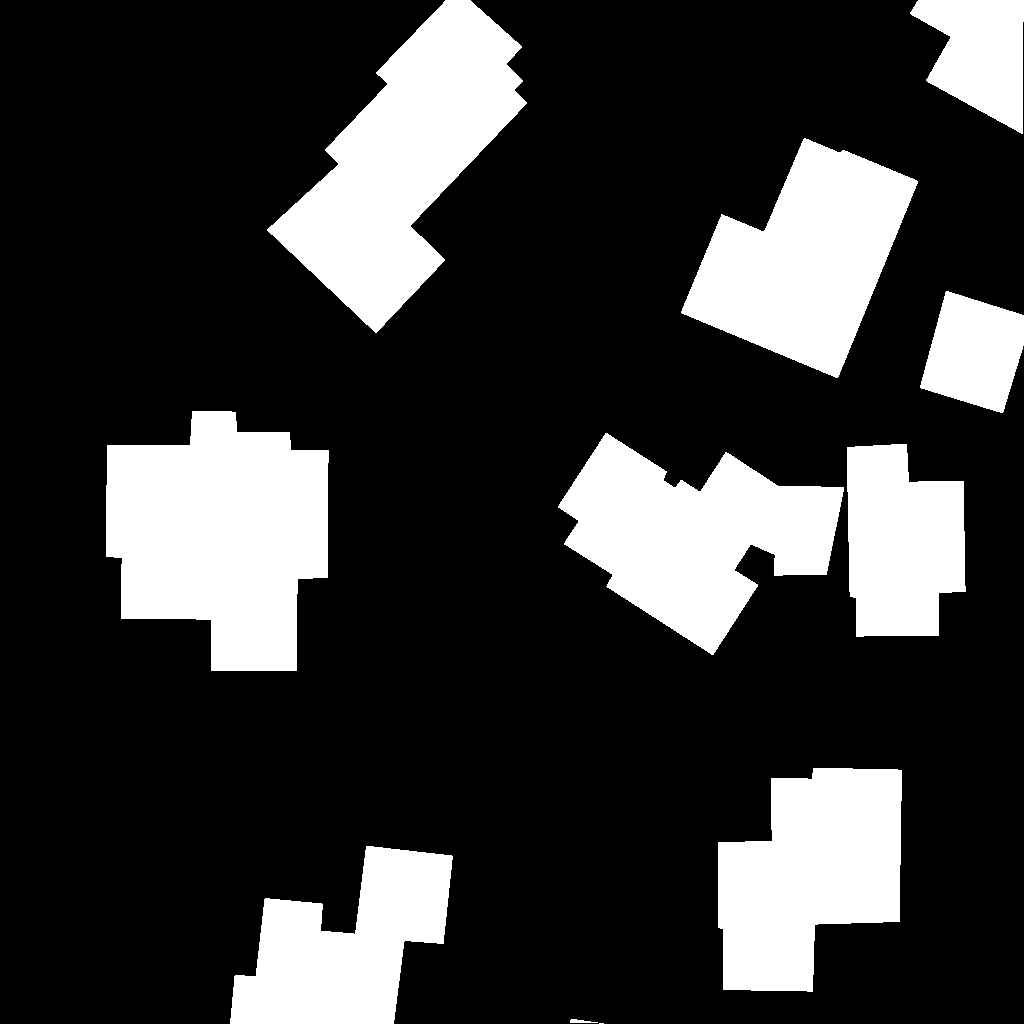building: (267, 0, 528, 334), (558, 433, 845, 656), (106, 411, 329, 671), (681, 138, 919, 379), (718, 768, 903, 992), (230, 846, 454, 1024), (847, 444, 966, 637), (910, 0, 1024, 135), (920, 291, 1024, 414), (570, 1019, 606, 1024)
